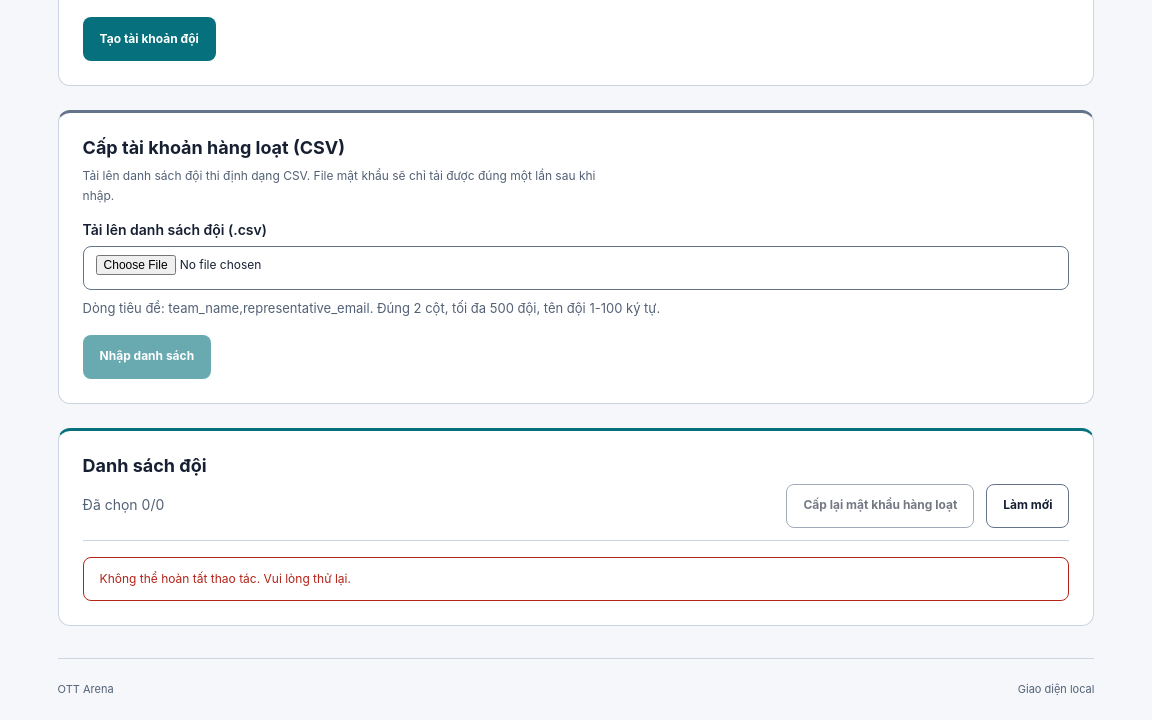
Test: BTC team provisioning › recovers from a list error and shows a useful empty state
(page scrolled)
Expected: the message "Không thể hoàn tất thao tác. Vui lòng thử lại." is shown, [83,556,1069,600]
Click the button "Làm mới" at [1028, 506], box [986,484,1069,528]
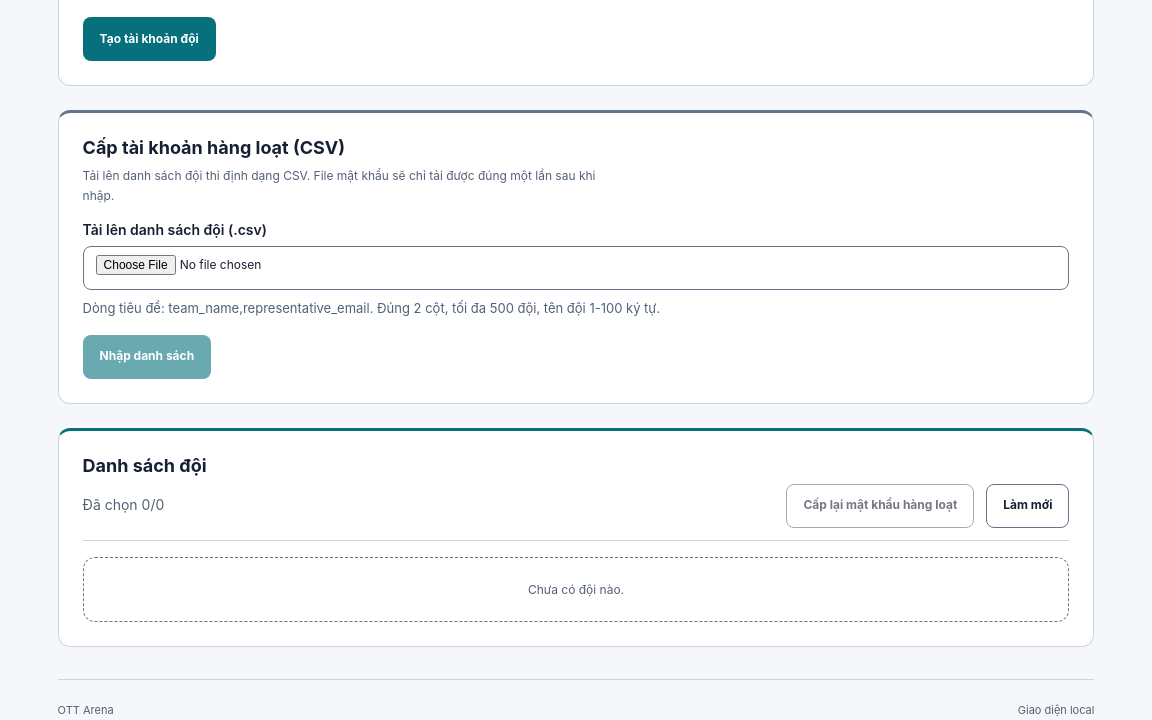
Expected: the text "Chưa có đội nào." is shown, [83,556,1069,622]
